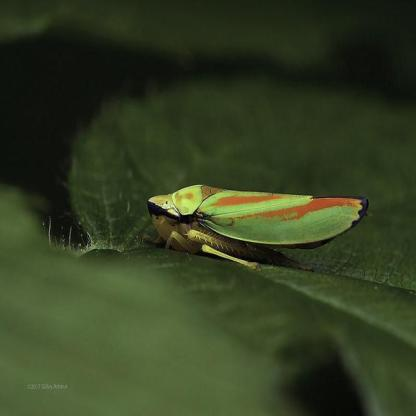green-leafhopper: (143, 182, 366, 268)
